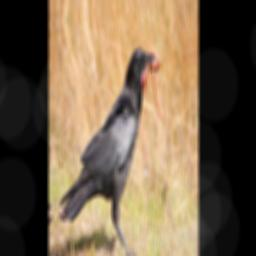Crow: (54, 34, 173, 256)
